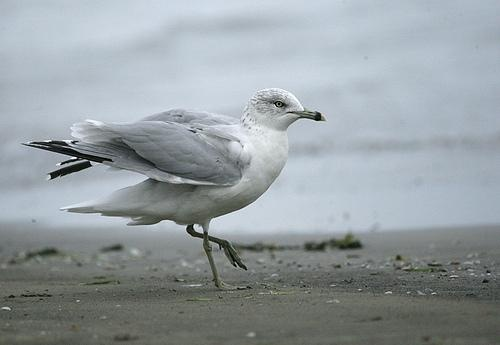bird: (21, 86, 325, 284)
